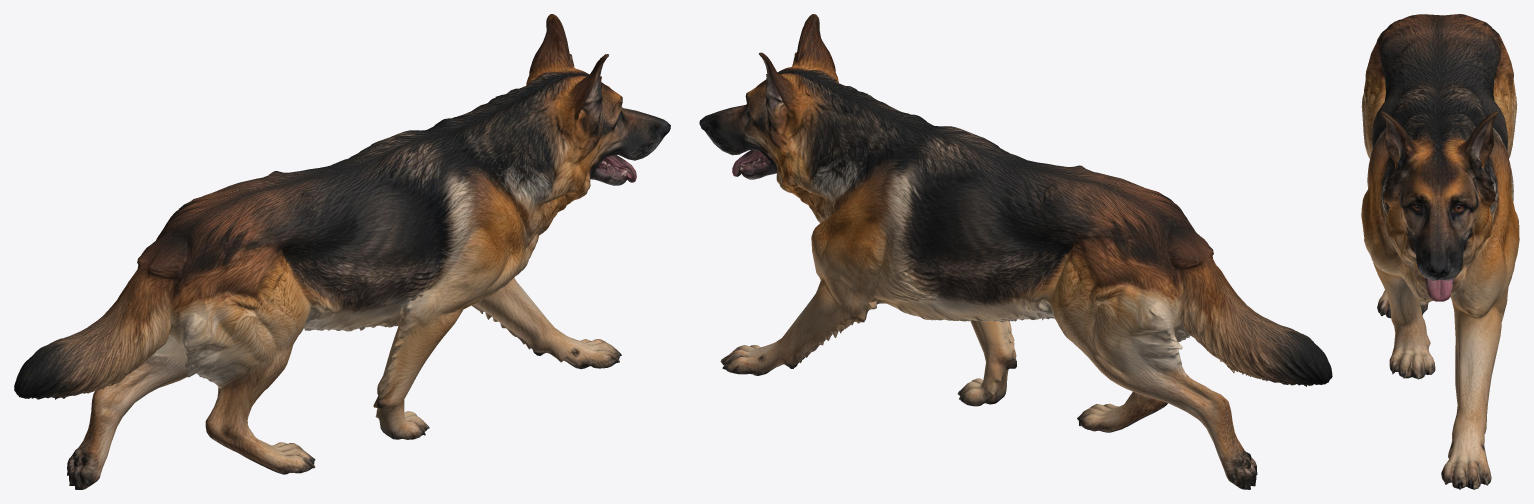
Rendered from german-shepherd.glb.
3 views of the same model, side by side, from view 1: azimuth 30°, elevation 25°; view 2: azimuth 150°, elevation 25°; view 3: azimuth 270°, elevation 25° (orthographic). The views are drawn at different scales.
Bounding box in the file's own units: 1 × 0.5059 × 0.2034.
1 material, 1 textured.
